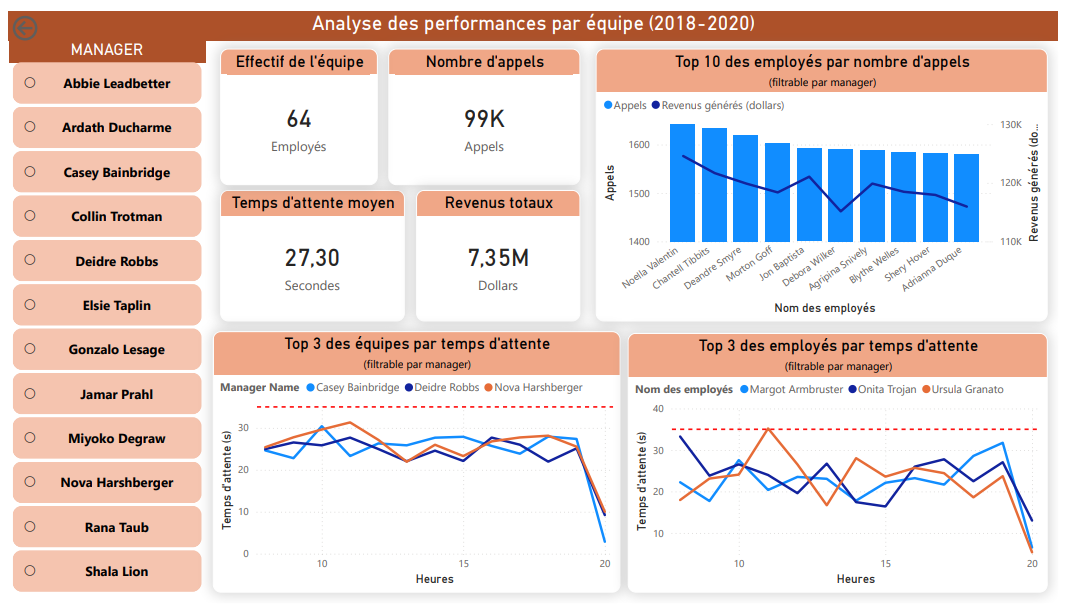

Layout of this report page (visuals, bound fields, positions):
{"tool":"powerbi","page":{"name":"Performances","canvas":[1280,720],"ordinal":2},"visuals":[{"type":"textbox","title":"Analyse des performances par équipe (2018-2020)","box":[0,0,1280.3,35.4],"z":0},{"type":"listSlicer","title":"MANAGER","fields":{"Values":["Employees.Manager Name"]},"box":[0,35.1,240.1,684.9],"z":1000},{"type":"card","title":"Temps d''attente moyen ","fields":{"Values":["Call Center.Average WaitTime"]},"box":[257.7,217.3,225.7,160],"z":2000},{"type":"card","title":"Nombre d''appels","fields":{"Values":["Call Center.Total Calls"]},"box":[463.2,45.5,234.1,165.1],"z":3000},{"type":"card","title":"Effectif de l''équipe","fields":{"Values":["Count(Employees.Employee Name)"]},"box":[257.7,45.5,192,165.1],"z":4000},{"type":"lineClusteredColumnComboChart","title":"Top 10 des employés par nombre d''appels ","fields":{"Category":["Employees.Employee Name"],"Y":["Call Center.Call per Employee"],"Y2":["Call Center.Revenue"]},"box":[716.1,44.8,550.6,332.3],"z":5000},{"type":"card","title":"Revenus totaux","fields":{"Values":["Call Center.Revenue"]},"box":[496.8,217.3,200.4,160],"z":6000},{"type":"lineChart","title":"Top 3 des équipes par temps d''attente","fields":{"Category":["Call Center.Hour"],"Series":["Employees.Manager Name"],"Y":["Call Center.Average WaitTime"]},"box":[249.3,389.1,496.8,318.3],"z":7000},{"type":"lineChart","title":"Top 3 des employés  par temps d''attente","fields":{"Category":["Call Center.Hour"],"Y":["Call Center.Average WaitTime"],"Series":["Employees.Employee Name"]},"box":[754.5,390.7,512,316.6],"z":8000},{"type":"actionButton","box":[0,0,100,40],"z":9000}]}

Visuals, with their boxes in screenshot pixels (x1, y1, x2, y2), scaled from the page's 1280x720 canvas onto the 1072x607 screenshot:
"Analyse des performances par équipe (2018-2020)" textbox: x1=0, y1=0, x2=1071, y2=30
"MANAGER" listSlicer: x1=0, y1=30, x2=201, y2=606
"Temps d''attente moyen " card: x1=216, y1=183, x2=405, y2=318
"Nombre d''appels" card: x1=388, y1=38, x2=584, y2=178
"Effectif de l''équipe" card: x1=216, y1=38, x2=377, y2=178
"Top 10 des employés par nombre d''appels " lineClusteredColumnComboChart: x1=600, y1=38, x2=1061, y2=318
"Revenus totaux" card: x1=416, y1=183, x2=584, y2=318
"Top 3 des équipes par temps d''attente" lineChart: x1=209, y1=328, x2=625, y2=596
"Top 3 des employés  par temps d''attente" lineChart: x1=632, y1=329, x2=1061, y2=596
actionButton: x1=0, y1=0, x2=84, y2=34
